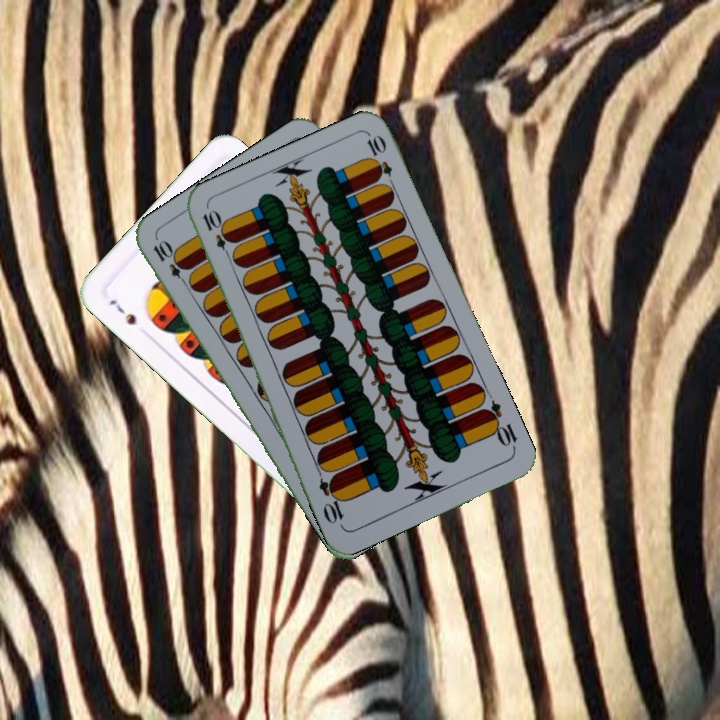E10: (478, 397, 520, 453), (149, 237, 193, 290), (198, 206, 236, 263)
S7: (104, 295, 139, 328)
